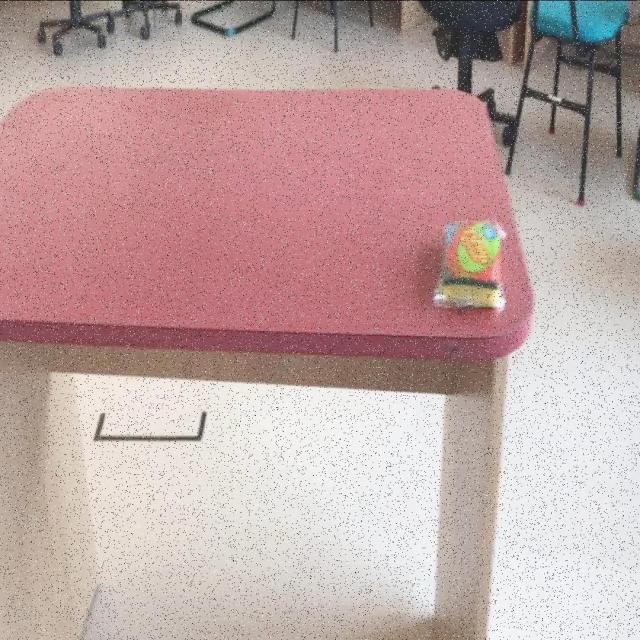Sponge: (432, 220, 508, 312), (528, 0, 630, 46), (440, 220, 507, 282), (432, 282, 505, 312)
